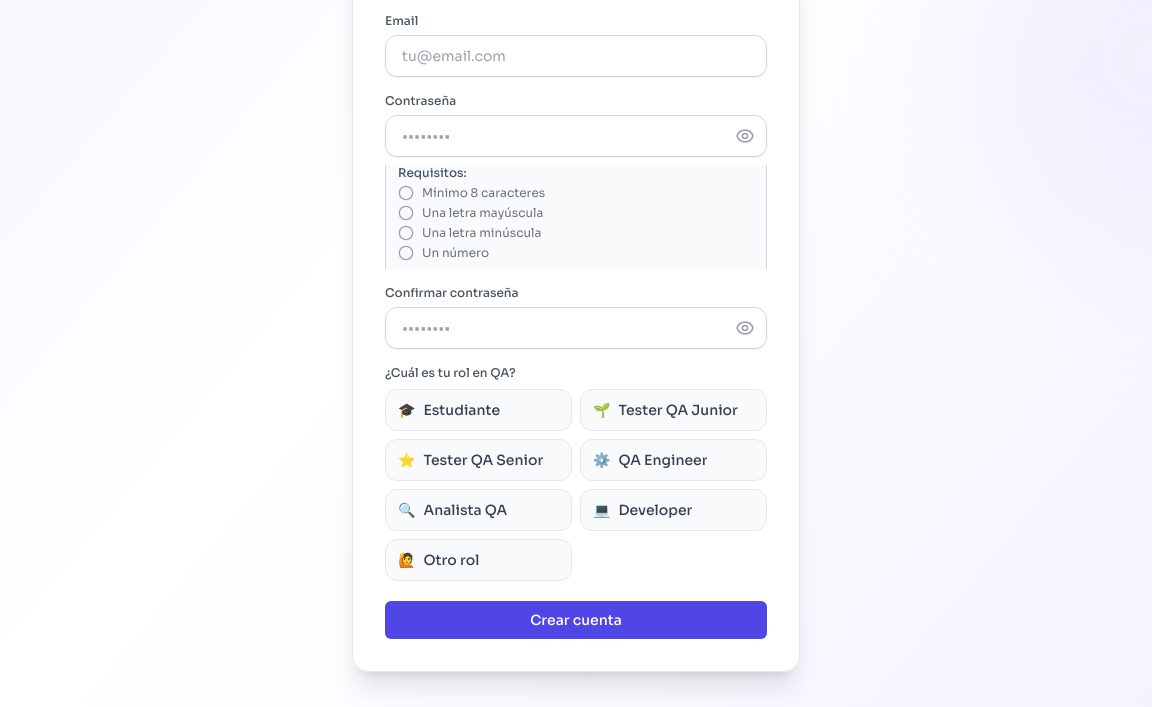
it: RegisterForm › Form Validation › limpia errores al modificar un campo
(page scrolled)
Click the button "Crear cuenta": (576, 620) [385, 600, 767, 638]
(page scrolled)
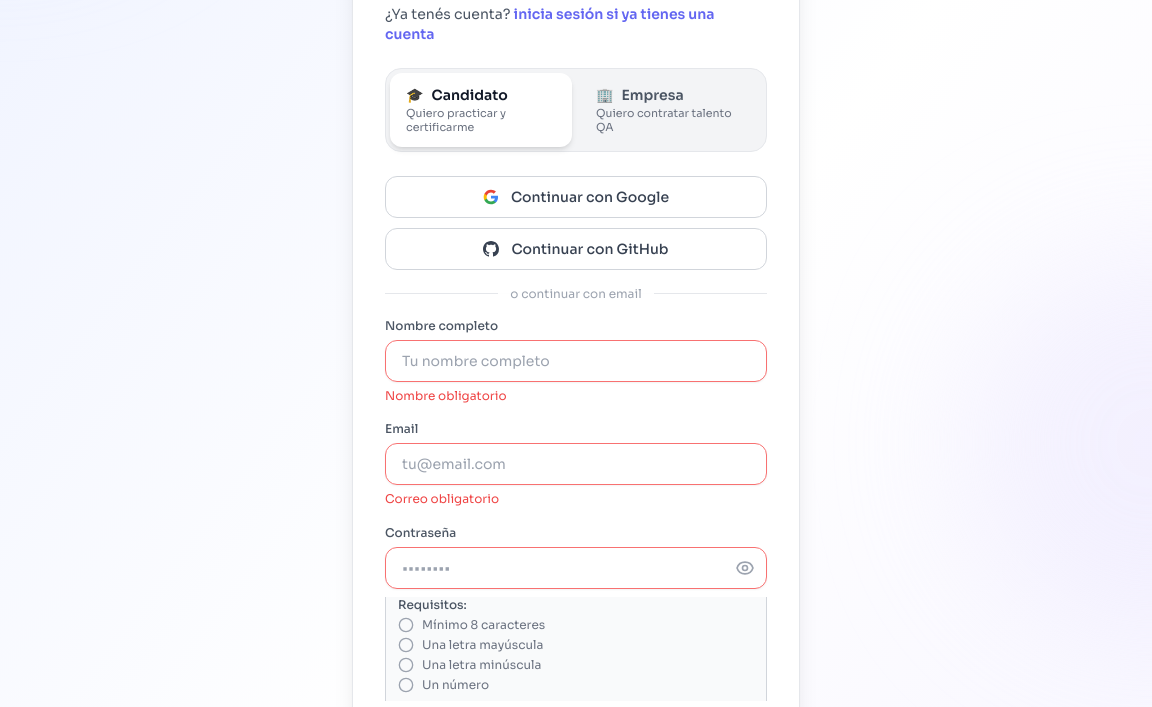
Check: the text "Nombre obligatorio" is shown, box [385, 388, 506, 402]
In the field labelled "Nombre completo": (576, 360) [385, 340, 767, 382], type "John"
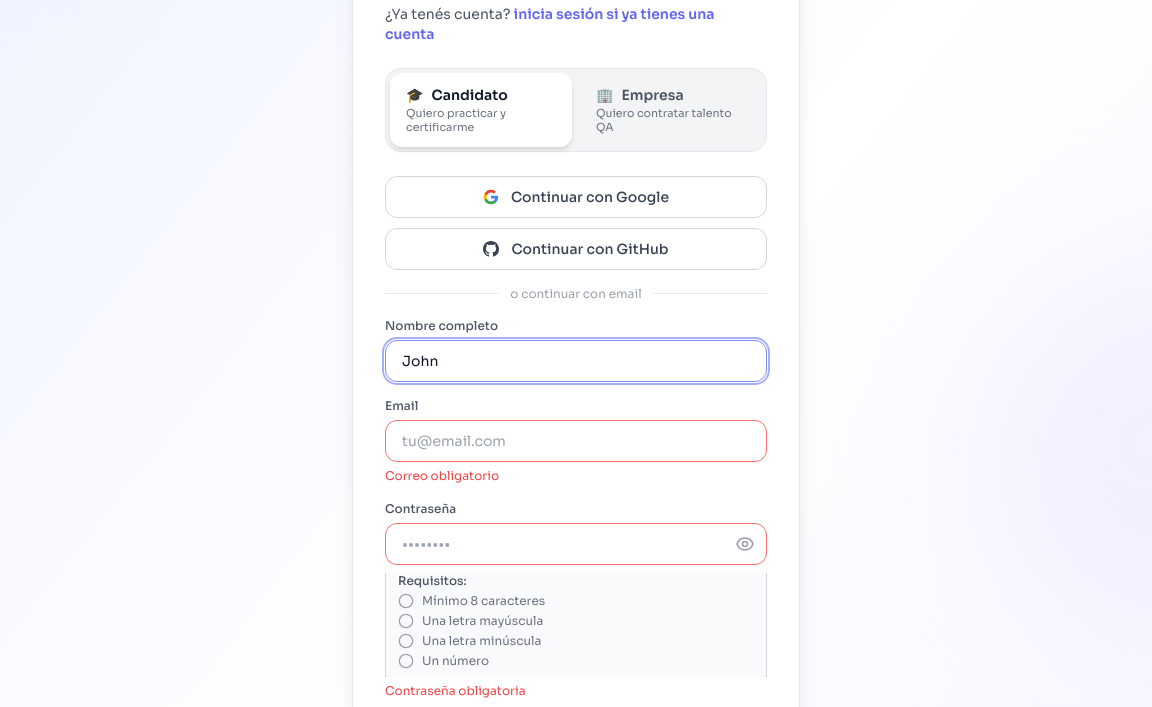
Check: the text "Nombre obligatorio" is gone
